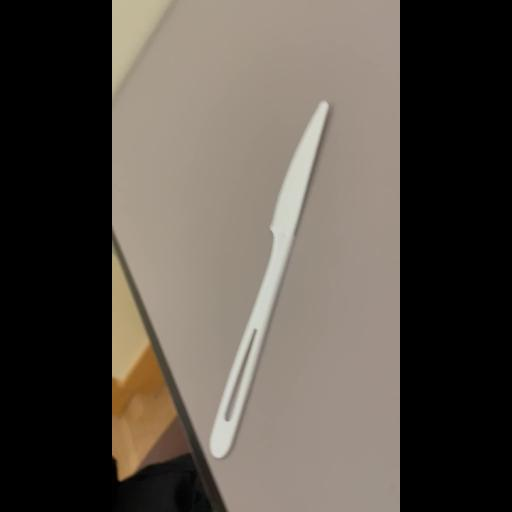utensil: (182, 96, 376, 466)
